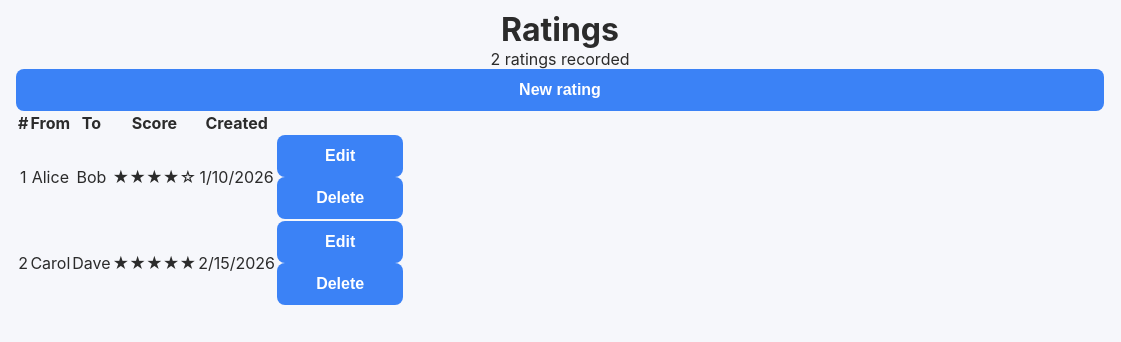
Scenario: RatingsManager › usuwanie oceny › pokazuje komunikat błędu, gdy usuwanie się nie powiedzie
Expected: the text "Alice" is shown, [30,135,70,219]
Click the button "Delete" in the row of "Alice" at {"x": 340, "y": 198}, box [277,177,403,219]
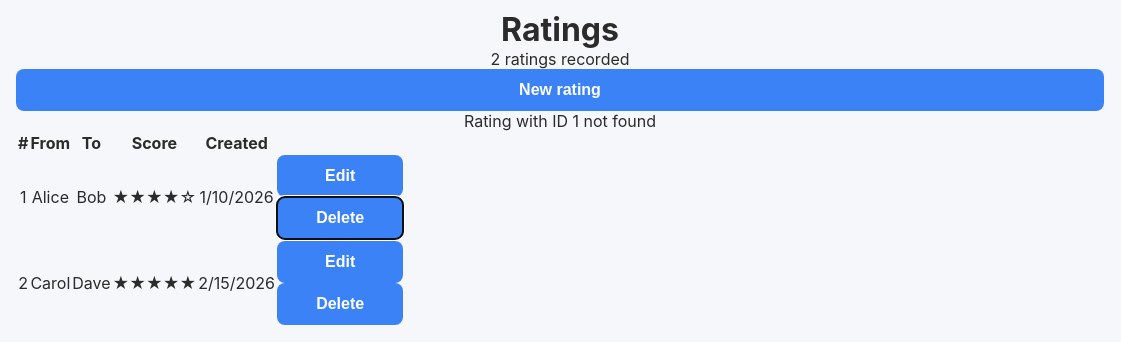
Expected: the text "Alice" is shown, [30,155,70,239]
Result: the text "Rating with ID 1 not found" is shown at [464,111,656,131]
